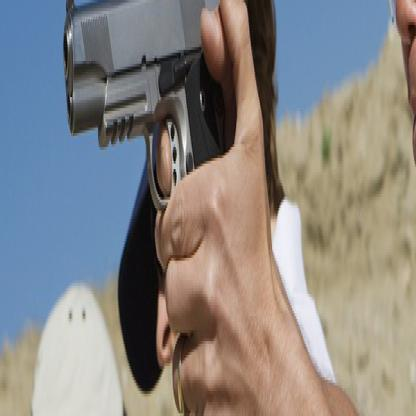gun: (63, 0, 233, 297)
